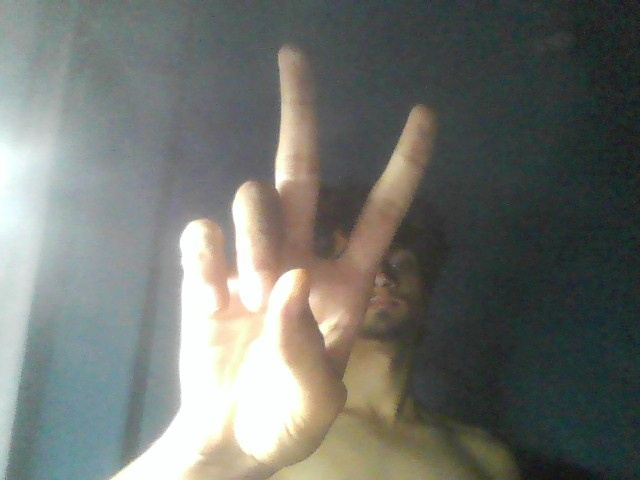LiveLong: (178, 24, 436, 459)
